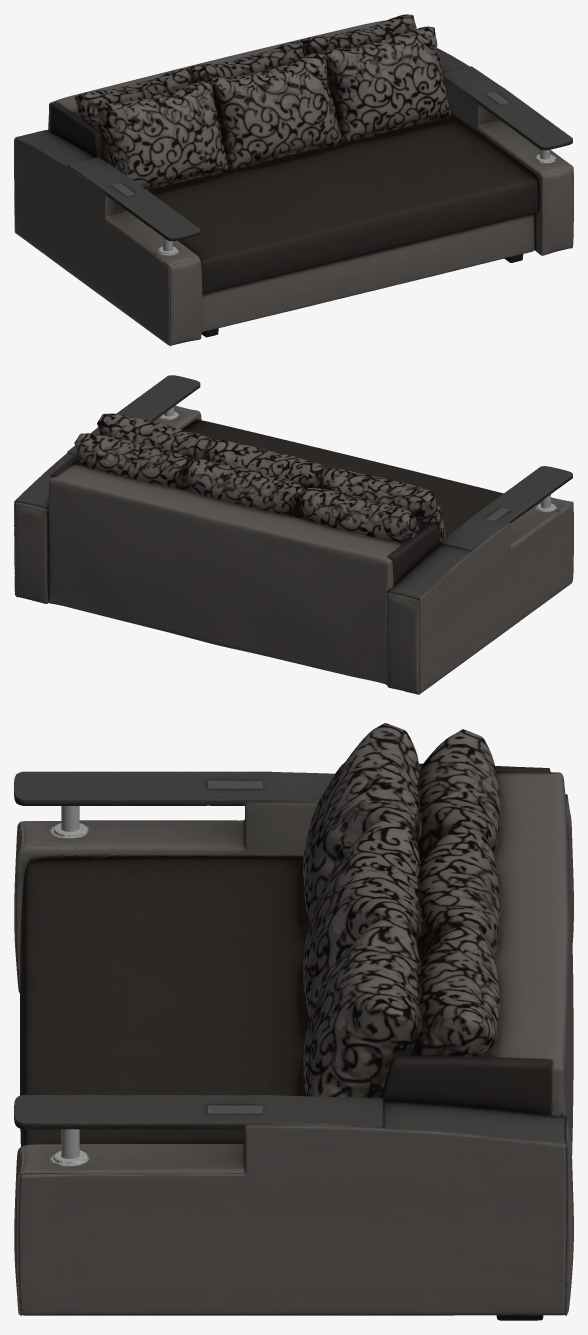
The model's file is Capri.glb.
The picture shows the model from 3 angles, top to bottom: view 1: azimuth 30°, elevation 25°; view 2: azimuth 150°, elevation 25°; view 3: azimuth 270°, elevation 25°; orthographic projection. The views are drawn at different scales.
Visible parts, largest first — view 1: tripo_node_e16f345f-031a-4cf5-90e6-0e4889399101; view 2: tripo_node_e16f345f-031a-4cf5-90e6-0e4889399101; view 3: tripo_node_e16f345f-031a-4cf5-90e6-0e4889399101.
Boxes of the visible parts, x1=… form: tripo_node_e16f345f-031a-4cf5-90e6-0e4889399101: x1=14, y1=14, x2=573, y2=346; tripo_node_e16f345f-031a-4cf5-90e6-0e4889399101: x1=14, y1=375, x2=573, y2=694; tripo_node_e16f345f-031a-4cf5-90e6-0e4889399101: x1=14, y1=723, x2=573, y2=1320.
Size of the model in its own units: 0.9817 by 0.3741 by 0.6584.
1 material, 1 textured.
